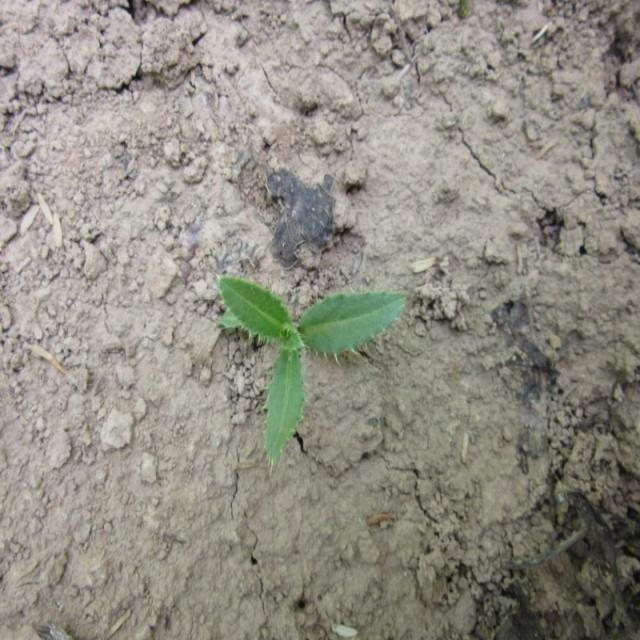field_thistle: (180, 257, 420, 456)
